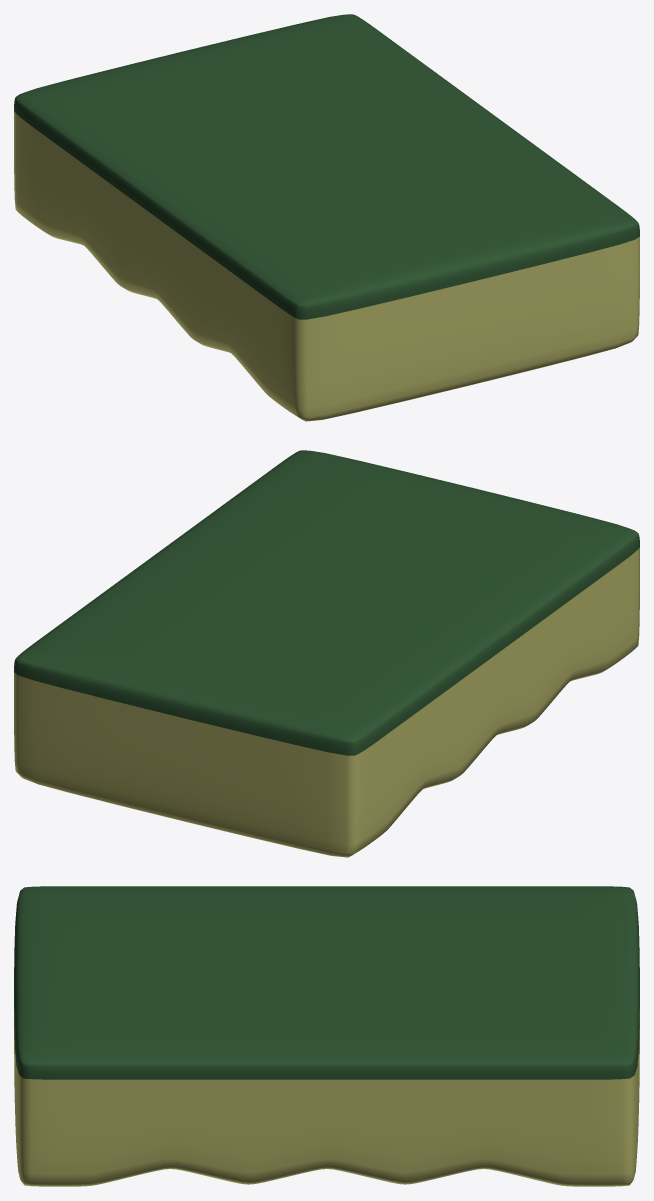
File: Sponge.fbx
3 views of the same model, one above another, from view 1: azimuth 30°, elevation 25°; view 2: azimuth 150°, elevation 25°; view 3: azimuth 270°, elevation 25° (orthographic). The views are drawn at different scales.
Parts seen in each view (by area): view 1: pCube1; view 2: pCube1; view 3: pCube1.
Boxes of the visible parts, bbox=[...] form: pCube1: bbox=[14, 14, 639, 421]; pCube1: bbox=[14, 450, 639, 857]; pCube1: bbox=[14, 886, 639, 1186].
Size of the model in its own units: 0.4716 by 0.1695 by 0.695.
